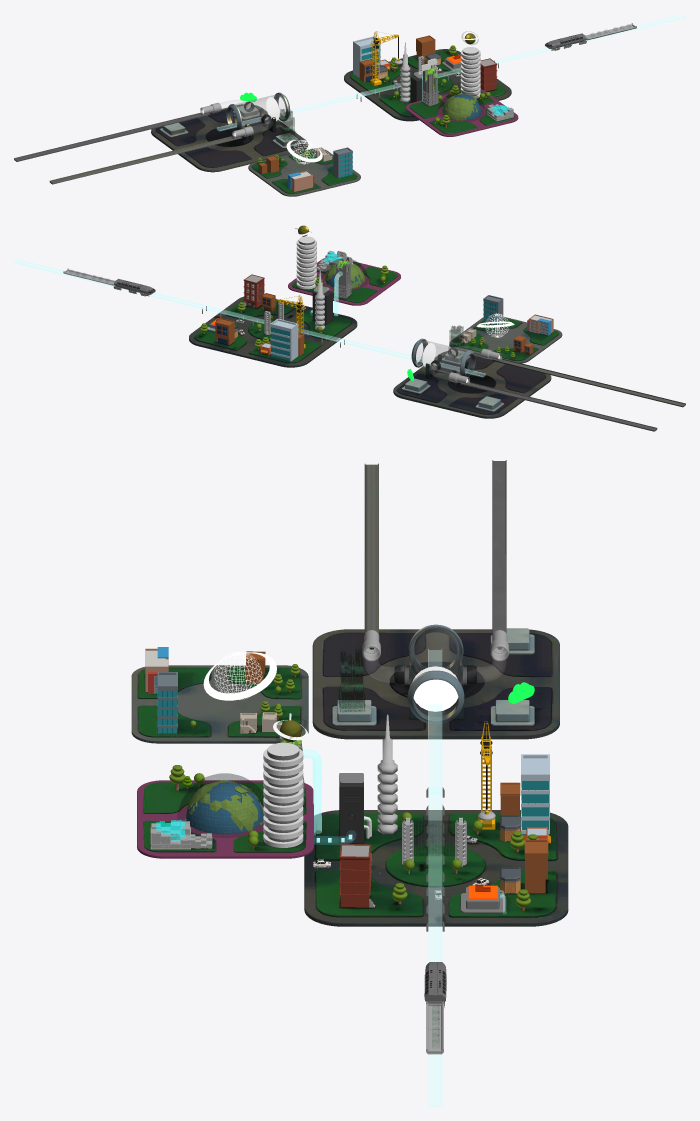
3 views of the same model, one above another, from view 1: azimuth 30°, elevation 25°; view 2: azimuth 150°, elevation 25°; view 3: azimuth 270°, elevation 25° (orthographic). The views are drawn at different scales.
Parts seen in each view (by area): view 1: polySurface8.009, polySurface8.013, pasted__pCube1.001, pasted__pCube1.014, pasted__pasted__pCube6.001, pCylinder1.001, pCube6.003, pCube1.025, Sphere.008, polySurface41.002, Cylinder, pCylinder1.014 (+12 smaller); view 2: polySurface8.013, polySurface8.009, pasted__pCube1.001, pCylinder1.001, pCube1.025, pasted__pCube1.014, pasted__pasted__pCube6.001, pCube6.003, polySurface41.002, pCylinder1.1374, Cylinder, pCylinder1.014 (+11 smaller); view 3: polySurface8.013, pCylinder1.001, polySurface8.009, pasted__pCube1.001, pCube1.025, pasted__pCube1.014, pCube6.003, pasted__pasted__pCube6.001, Sphere.008, Cylinder, URF-Height, pCube5.042 (+14 smaller).
Part boxes in pixels (x1,y1,x2,y2): polySurface8.009: (257,45,518,163); polySurface8.013: (248,147,360,196); pasted__pCube1.001: (156,105,303,167); pasted__pCube1.014: (151,104,308,172); pasted__pasted__pCube6.001: (14,112,242,184); pCylinder1.001: (350,50,505,116); pCube6.003: (217,14,685,131); pCube1.025: (344,49,511,121); Sphere.008: (438,90,485,121); polySurface41.002: (231,94,285,128); Cylinder: (460,47,480,98); pCylinder1.014: (258,35,435,173); polySurface8.013: (449,295,562,363); polySurface8.009: (200,250,515,358); pasted__pCube1.001: (397,354,546,414); pCylinder1.001: (194,300,351,362); pCube1.025: (189,296,357,367); pasted__pCube1.014: (393,350,551,418); pasted__pasted__pCube6.001: (460,359,685,431); pCube6.003: (14,260,485,377); polySurface41.002: (415,340,470,374); pCylinder1.1374: (262,318,298,361); Cylinder: (296,236,316,289); pCylinder1.014: (215,293,532,355); polySurface8.013: (131,647,308,743); pCylinder1.001: (315,813,556,917); polySurface8.009: (137,664,538,910); pasted__pCube1.001: (323,632,552,730); pCube1.025: (304,810,568,926); pasted__pCube1.014: (312,629,559,739); pCube6.003: (302,650,442,1106); pasted__pasted__pCube6.001: (364,460,506,649); Sphere.008: (177,773,263,837); Cylinder: (263,742,303,847); URF-Height: (185,780,263,834); pCube5.042: (332,628,534,725).
Size of the model in its own units: 1.52 by 0.183 by 0.4402.
100 materials, 36 textured.
